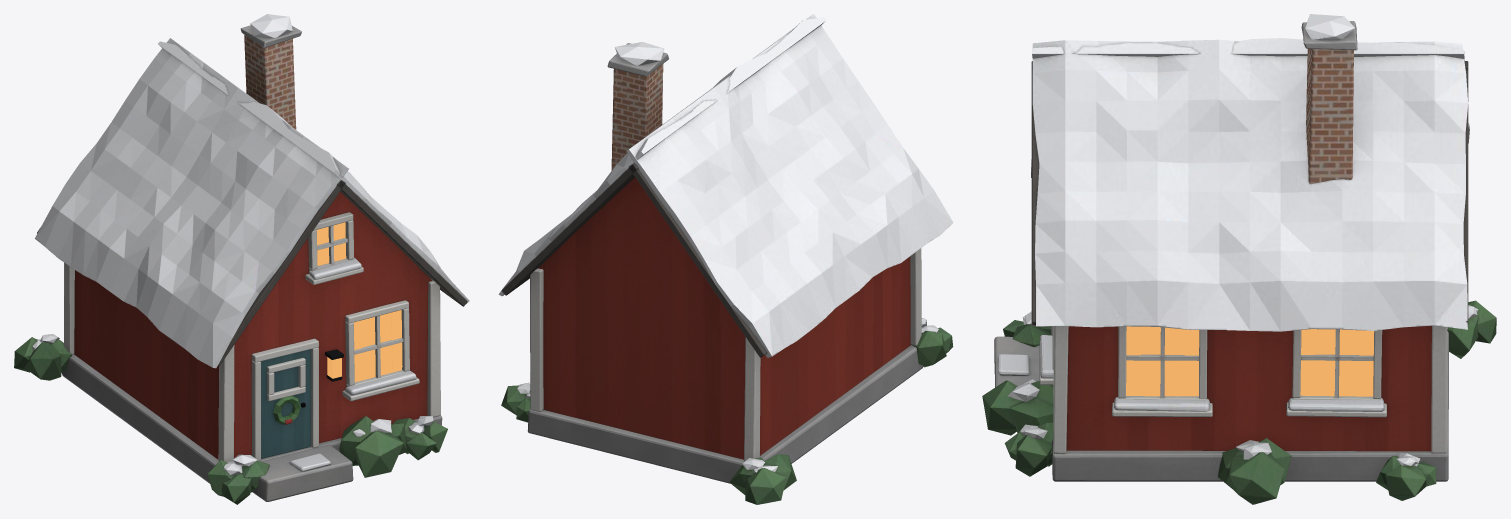
File: house.glb
The picture shows the model from 3 angles, left to right: view 1: azimuth 30°, elevation 25°; view 2: azimuth 150°, elevation 25°; view 3: azimuth 270°, elevation 25°; orthographic projection. The views are drawn at different scales.
Parts seen in each view (by area): view 1: HouseBody, HouseGlow; view 2: HouseBody; view 3: HouseBody, HouseGlow.
Part boxes in pixels (left/top/right/bottom): HouseBody: left=14, top=14, right=469, bottom=504; HouseGlow: left=316, top=222, right=402, bottom=382; HouseBody: left=498, top=14, right=953, bottom=504; HouseBody: left=982, top=14, right=1496, bottom=504; HouseGlow: left=1126, top=326, right=1374, bottom=396.
Size of the model in its own units: 2.93 by 3.31 by 3.53.
Materials: 2 (1 with a texture image).
